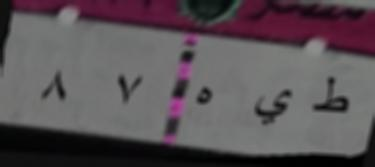7: (114, 64, 144, 110)
8: (39, 61, 68, 104)
Taa: (306, 66, 352, 123)
haa: (191, 76, 216, 115)
yaa: (245, 80, 293, 134)
